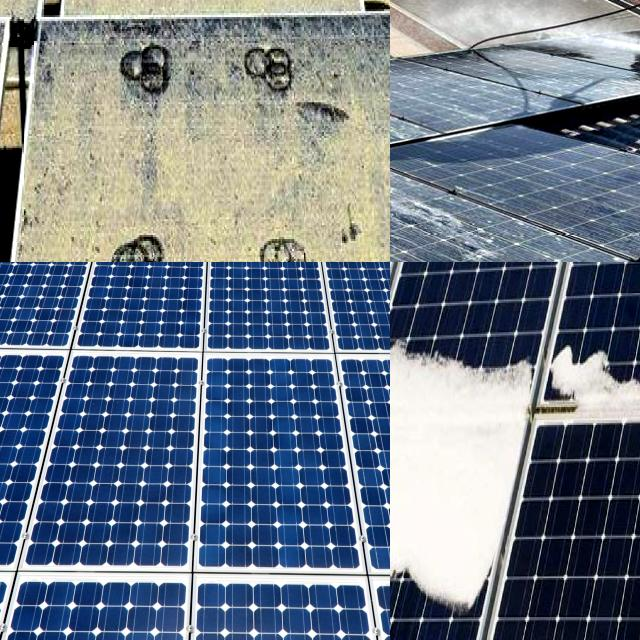bird: (425, 220, 491, 262), (390, 224, 450, 262)
crack: (0, 326, 239, 591), (167, 331, 390, 597), (16, 329, 208, 603), (164, 550, 390, 640), (320, 345, 390, 619), (0, 552, 215, 640), (187, 262, 347, 366), (0, 262, 119, 392), (70, 262, 220, 358), (303, 262, 390, 369)
dust: (194, 24, 342, 262), (41, 22, 187, 262), (70, 0, 350, 49), (351, 38, 390, 262), (0, 38, 29, 262), (0, 36, 25, 262), (0, 0, 90, 44), (0, 27, 16, 206)
panel: (552, 343, 640, 443), (403, 540, 482, 636), (390, 304, 458, 395), (390, 425, 506, 478), (452, 332, 535, 402), (390, 540, 437, 601), (390, 288, 415, 402), (544, 604, 606, 640)
